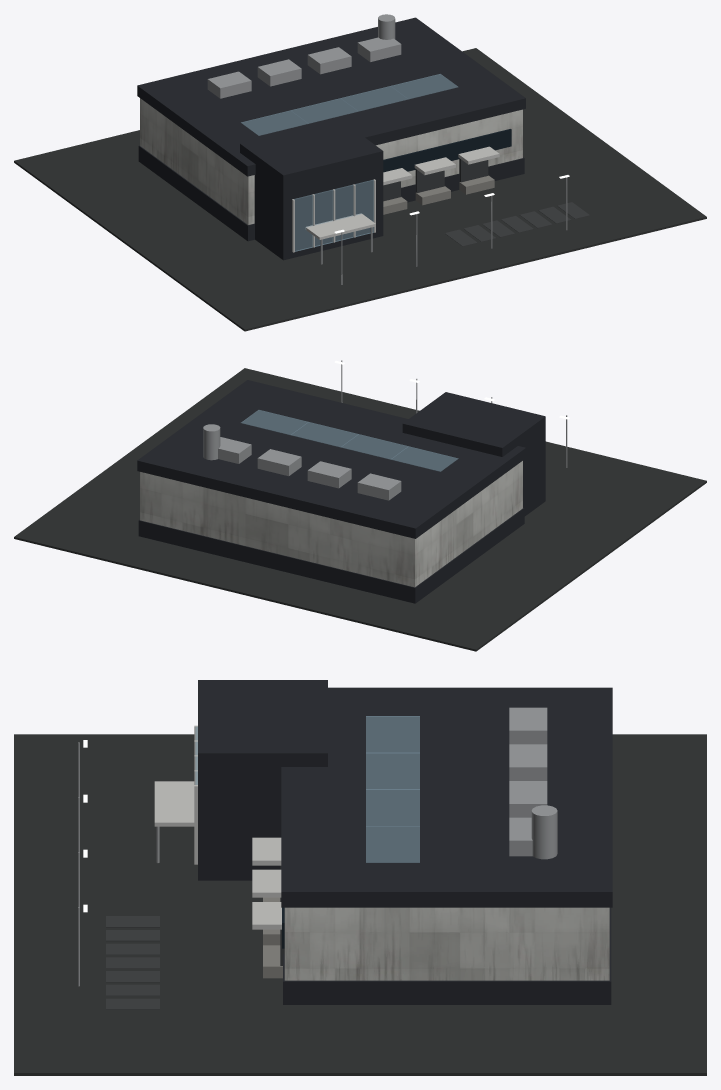
File: EA08_factory_hall_small.glb
3 views of the same model, one above another, from view 1: azimuth 30°, elevation 25°; view 2: azimuth 150°, elevation 25°; view 3: azimuth 270°, elevation 25° (orthographic). The views are drawn at different scales.
Visible parts, largest first — view 1: yard, hall, entrance_glazing, object 4, window_band; view 2: yard, hall, object 4, entrance_glazing; view 3: yard, hall, entrance_glazing, object 4.
Part boxes in pixels (<box>): yard: <box>14,17,706,331</box>; hall: <box>140,98,522,224</box>; entrance_glazing: <box>241,74,457,251</box>; object 4: <box>207,14,567,284</box>; window_band: <box>383,129,511,201</box>; yard: <box>14,368,706,651</box>; hall: <box>140,461,522,587</box>; object 4: <box>203,360,567,500</box>; entrance_glazing: <box>241,410,458,471</box>; yard: <box>14,680,706,1075</box>; hall: <box>284,907,609,980</box>; entrance_glazing: <box>195,716,419,862</box>; object 4: <box>78,707,557,986</box>.
Bounding box in the file's own units: 74 × 16.3 × 64.
6 materials, 1 textured.
